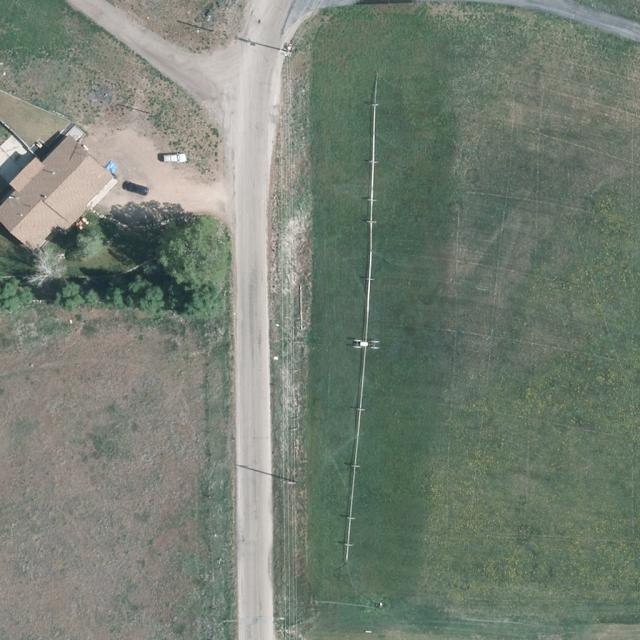vehicle: (121, 182, 150, 196), (163, 154, 187, 162)
